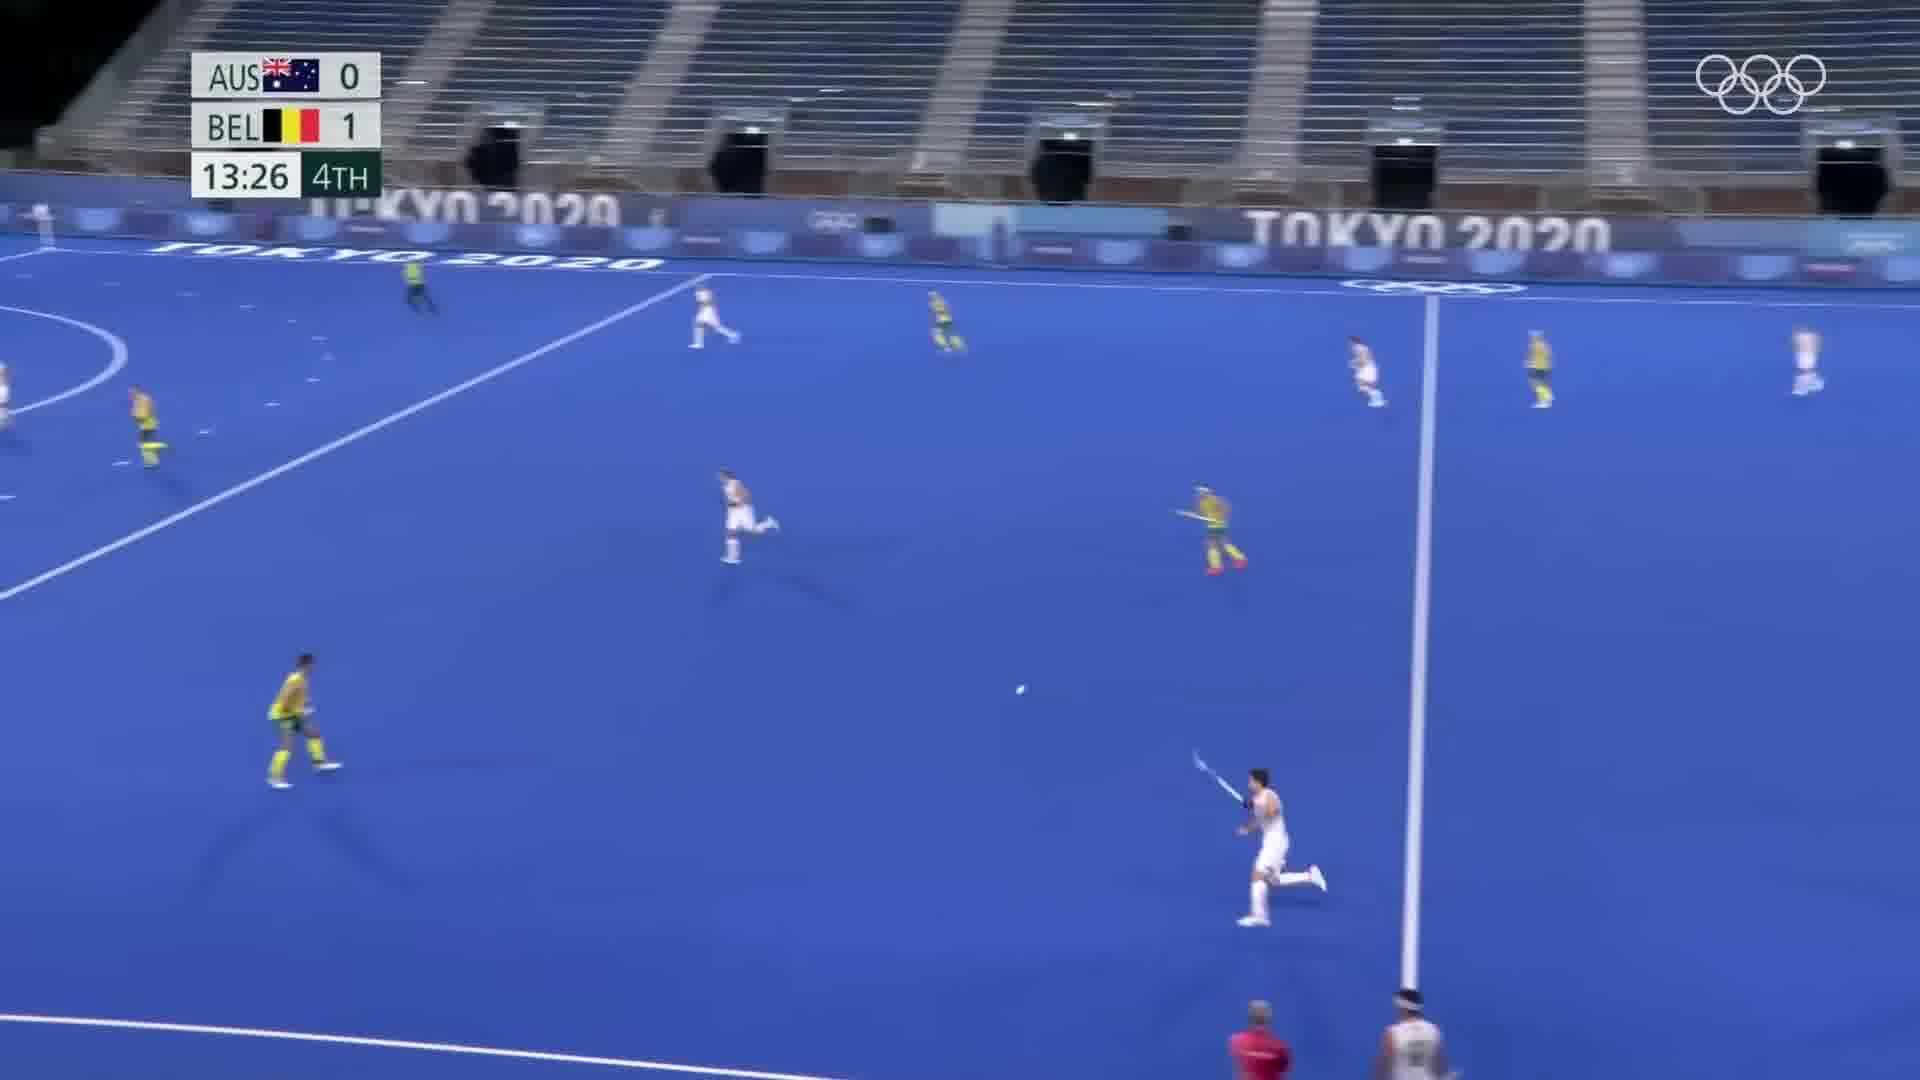ball: (1004, 675, 1034, 705)
